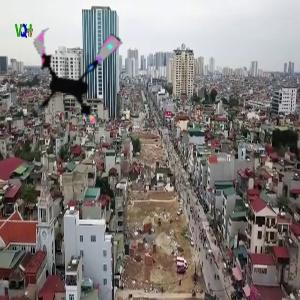drone: (21, 16, 136, 131)
